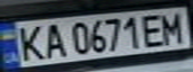0: (66, 19, 90, 55)
1: (121, 14, 145, 50)
6: (87, 17, 109, 54)
7: (103, 16, 124, 52)
A: (39, 20, 69, 60)
E: (139, 11, 169, 47)
K: (12, 23, 48, 62)
M: (157, 9, 190, 44)
